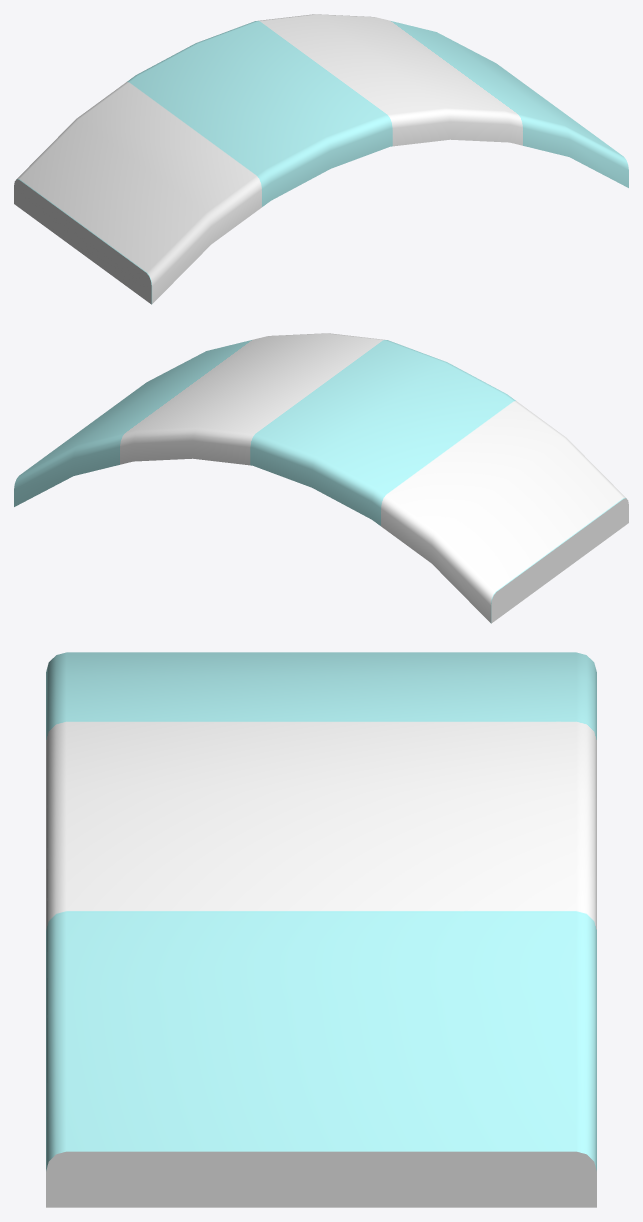
File: RoadUp_blue.fbx
3 views of the same model, one above another, from view 1: azimuth 30°, elevation 25°; view 2: azimuth 150°, elevation 25°; view 3: azimuth 270°, elevation 25° (orthographic). The views are drawn at different scales.
Visible parts, largest first — view 1: RoadUp; view 2: RoadUp; view 3: RoadUp.
Boxes of the visible parts, x1,y1,x2,y2 form: RoadUp: (14, 14, 628, 304); RoadUp: (14, 333, 628, 623); RoadUp: (46, 652, 596, 1207).
Size of the model in its own units: 600 by 154 by 300.
1 material, 1 textured.
